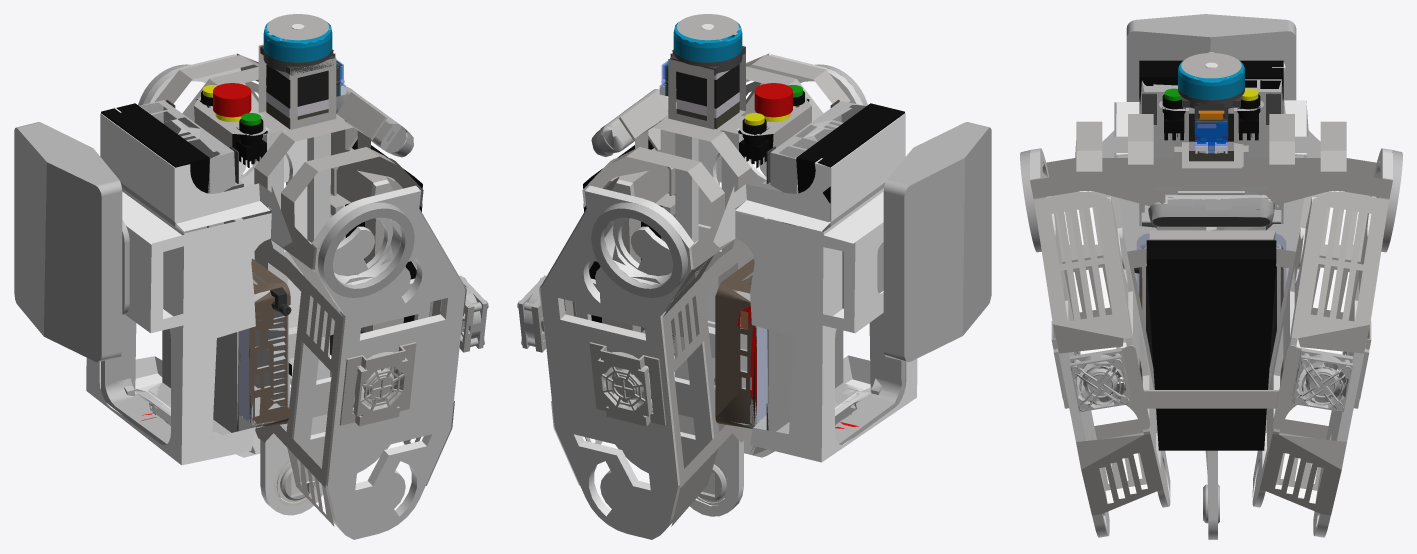
Rendered from body_link.dae.
3 views of the same model, side by side, from view 1: azimuth 30°, elevation 25°; view 2: azimuth 150°, elevation 25°; view 3: azimuth 270°, elevation 25° (orthographic). The views are drawn at different scales.
Visible parts, largest first — view 1: FBXASC227FBXASC130FBXASC189FBXASC227FBXASC131FBXASC170FBXASC (×33); view 2: FBXASC227FBXASC130FBXASC189FBXASC227FBXASC131FBXASC170FBXASC (×32); view 3: FBXASC227FBXASC130FBXASC189FBXASC227FBXASC131FBXASC170FBXASC (×42).
Part boxes in pixels (<box>): FBXASC227FBXASC130FBXASC189FBXASC227FBXASC131FBXASC170FBXASC (×33): <box>14,14,487,539</box>; FBXASC227FBXASC130FBXASC189FBXASC227FBXASC131FBXASC170FBXASC (×32): <box>518,14,991,539</box>; FBXASC227FBXASC130FBXASC189FBXASC227FBXASC131FBXASC170FBXASC (×42): <box>1020,14,1402,539</box>.
Bounding box in the file's own units: 0.3283 × 0.2978 × 0.4052.
